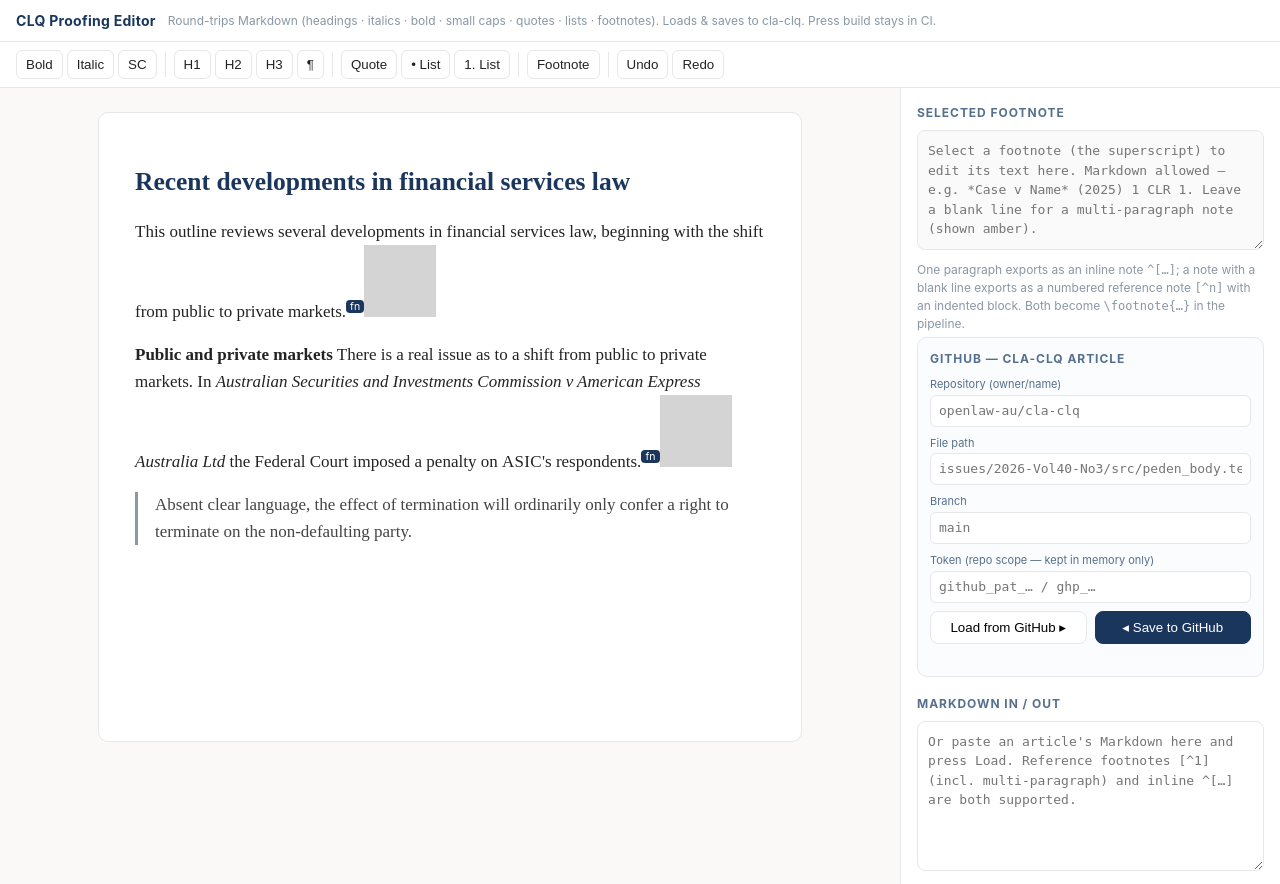
Test case: ProofingEditor › clicking the Footnote toolbar button inserts a new footnote and renumbers
Press the mouse on the button "Footnote": (563, 64) [527,50,600,79]
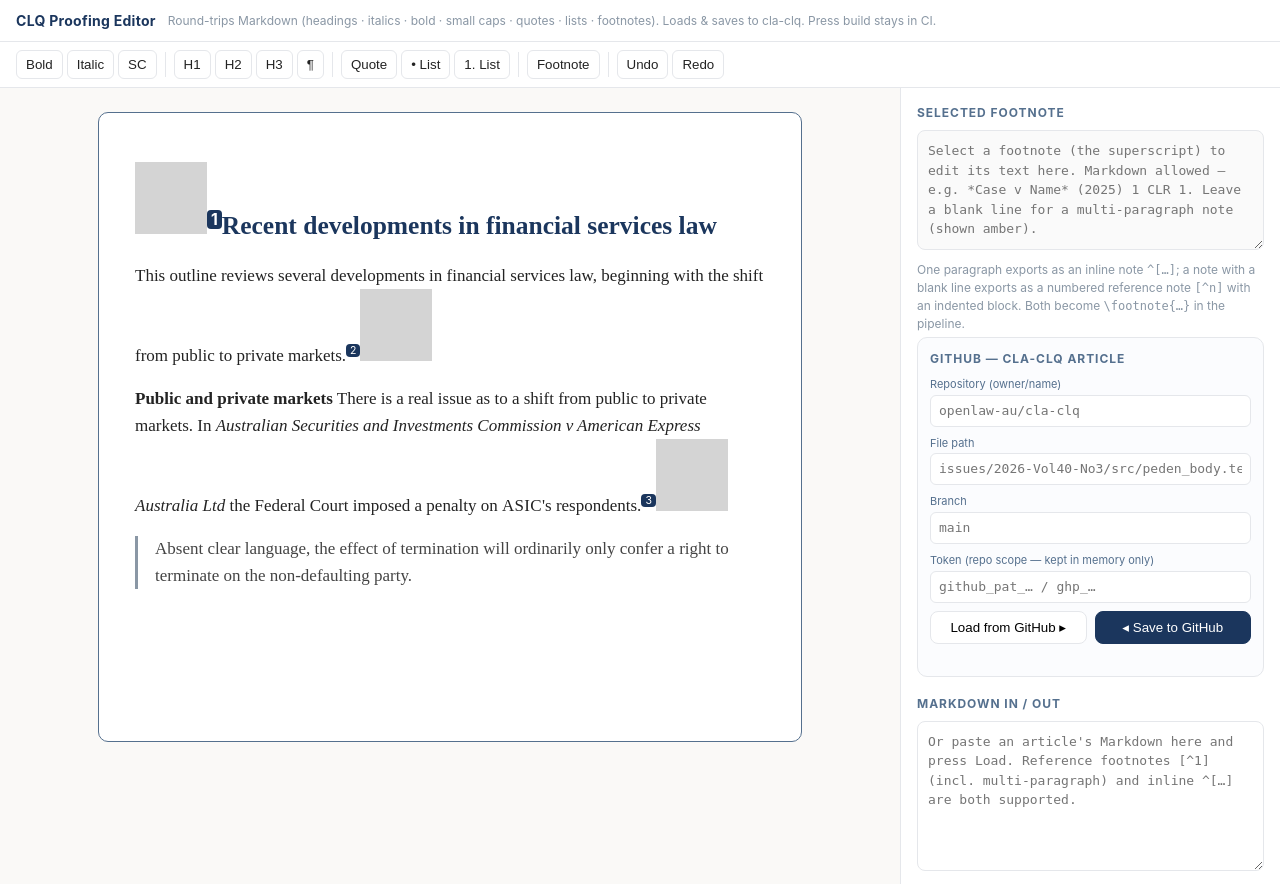
Expected: the number of elements with class "clq-fn" is 3, [207,210,222,229]; [346,344,360,357]; [641,494,656,507]
